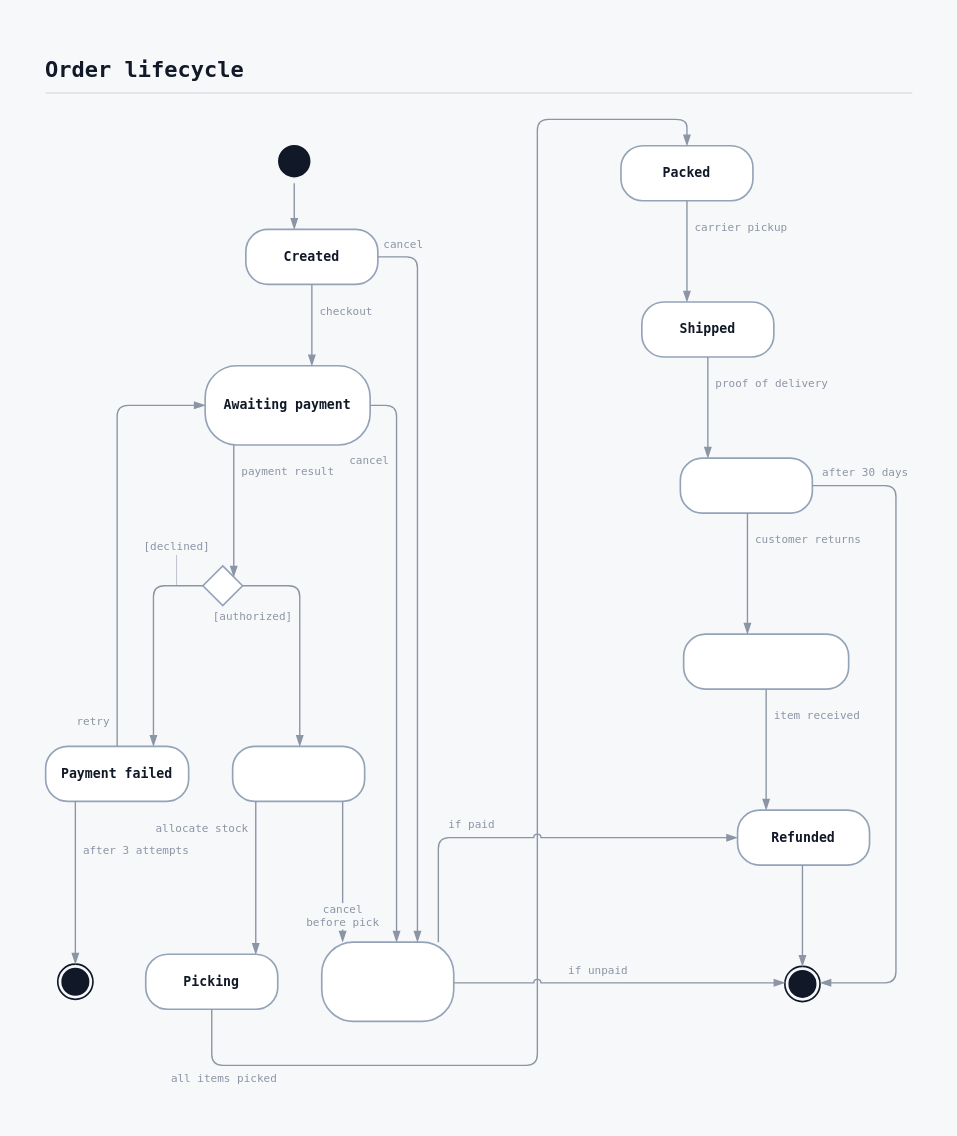
Image size: 957x1136. Some labels were removed from this diagram. The centre of each missing label's shape, as x and y in pixels:
"Cancelled" goes at (387,981).
"Delivered" goes at (746,485).
"Paid" goes at (298,773).
"Return requested" goes at (765,661).
